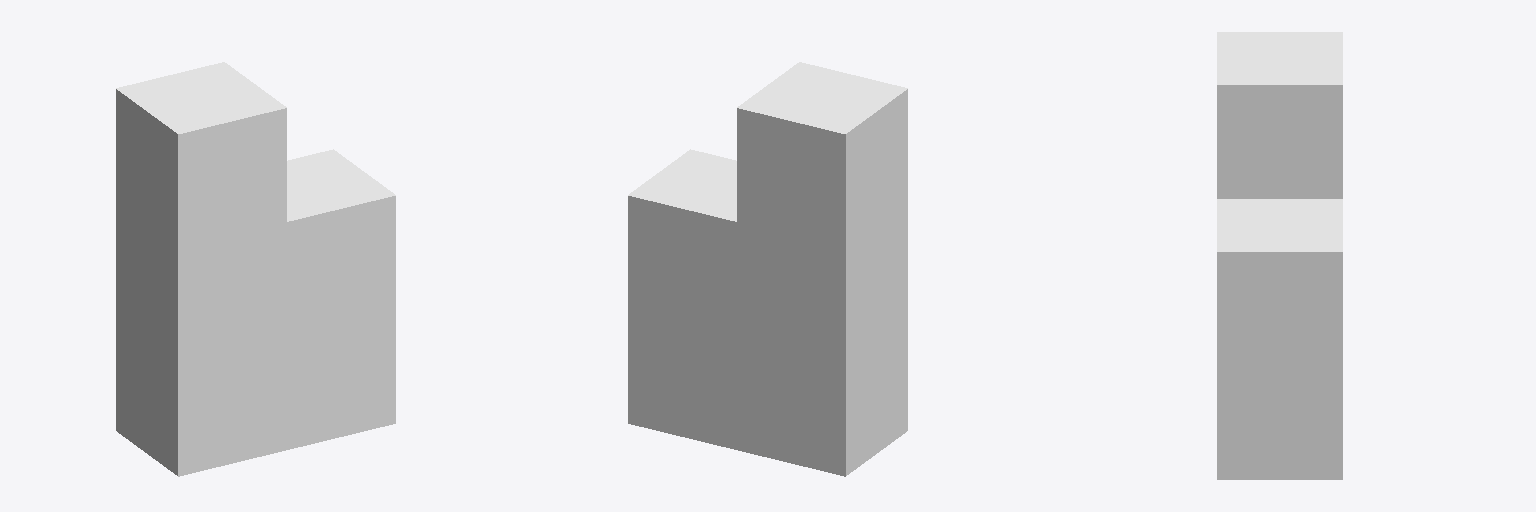
File: hair2.obj
3 renders of one model, left to right at view 1: azimuth 30°, elevation 25°; view 2: azimuth 150°, elevation 25°; view 3: azimuth 270°, elevation 25°, orthographic.
Size of the model in its own units: 2 by 3 by 1.